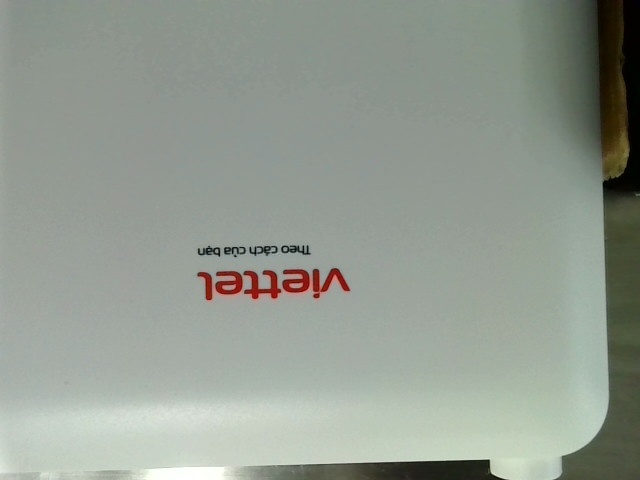AY_Viettel: (191, 242, 358, 305)
